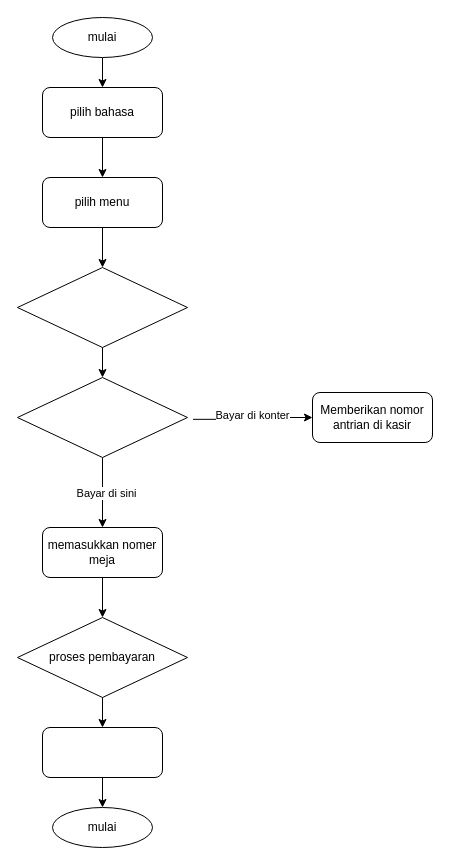
The diagram is 450 pixels wide and 865 high, and some of its shapes have lost their labels. The centre of each missing label's shape, as x and y in pixels:
cetak nota dan pesanan: pixel 102 752
pilih tipe pembayaran: pixel 102 417
pilih tipe pesanan: pixel 102 307
